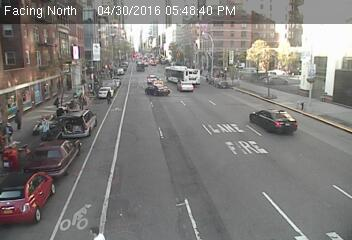neg: (171, 151, 190, 178), (68, 105, 87, 130), (216, 156, 234, 180), (145, 77, 162, 99), (192, 66, 208, 88), (271, 153, 287, 175), (101, 130, 117, 151), (201, 112, 216, 132), (23, 25, 37, 44), (253, 119, 267, 137), (135, 149, 148, 167), (182, 95, 195, 112), (186, 34, 197, 49), (258, 76, 269, 91), (222, 45, 233, 59), (315, 145, 326, 159), (240, 51, 250, 63), (207, 34, 215, 46), (124, 73, 132, 84), (163, 43, 171, 54), (158, 114, 166, 124), (144, 51, 152, 61), (259, 56, 264, 63), (62, 69, 67, 76), (133, 65, 137, 70)
pos: (34, 113, 52, 137), (10, 106, 25, 126), (51, 95, 64, 112), (88, 222, 100, 237), (103, 88, 113, 102)
